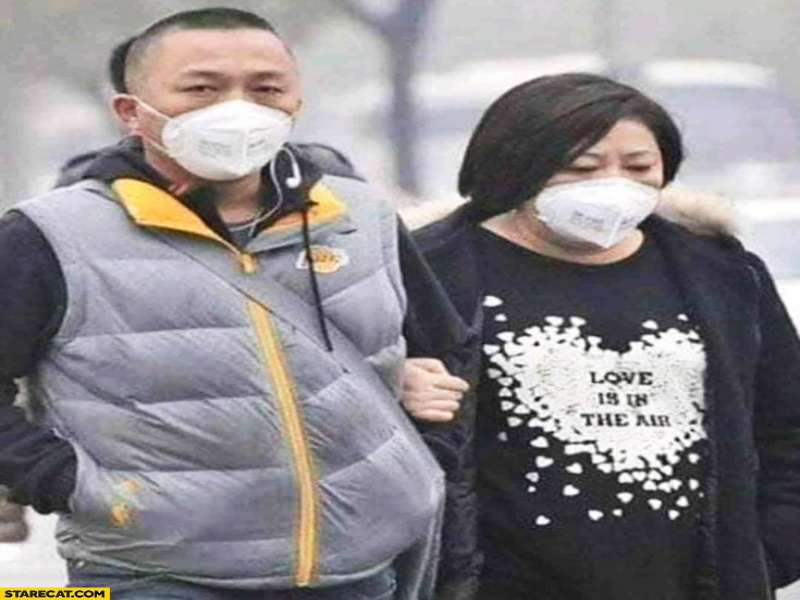ManaoArotava: (98, 14, 328, 202), (476, 75, 694, 267)
